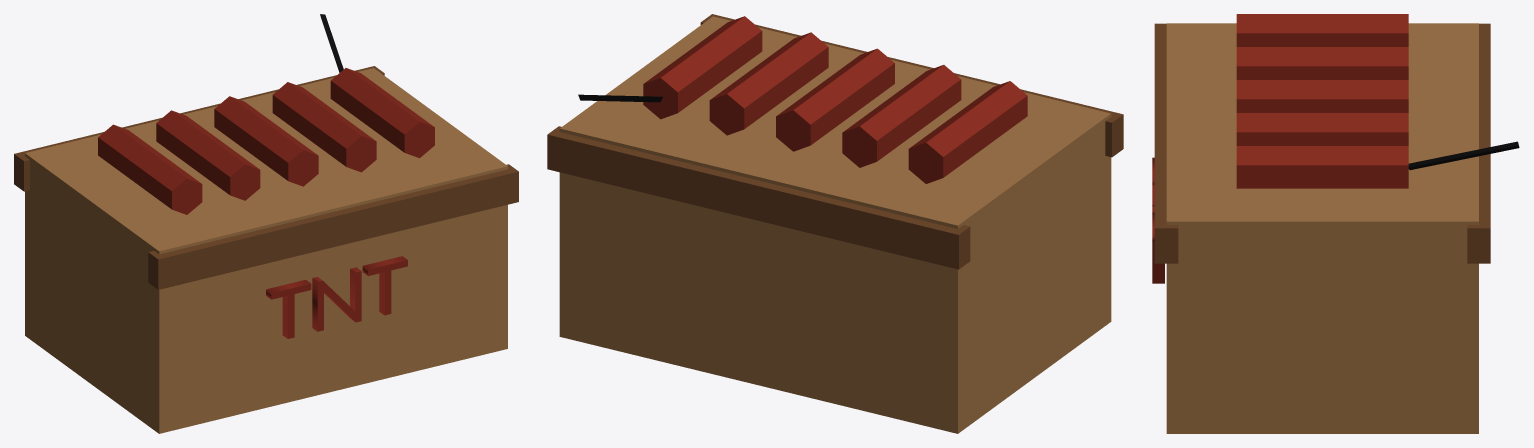
The model's file is SM_Dynamite_Crate.obj.
3 renders of one model, left to right at view 1: azimuth 30°, elevation 25°; view 2: azimuth 150°, elevation 25°; view 3: azimuth 270°, elevation 25°, orthographic. The views are drawn at different scales.
Parts seen in each view (by area): view 1: SM_Dynamite_Crate; view 2: SM_Dynamite_Crate; view 3: SM_Dynamite_Crate.
Part boxes in pixels (x1,y1,x2,y2): SM_Dynamite_Crate: [14, 14, 518, 433]; SM_Dynamite_Crate: [547, 14, 1123, 433]; SM_Dynamite_Crate: [1152, 14, 1519, 433].
Bounding box in the file's own units: 0.62 × 0.3834 × 0.4699.
